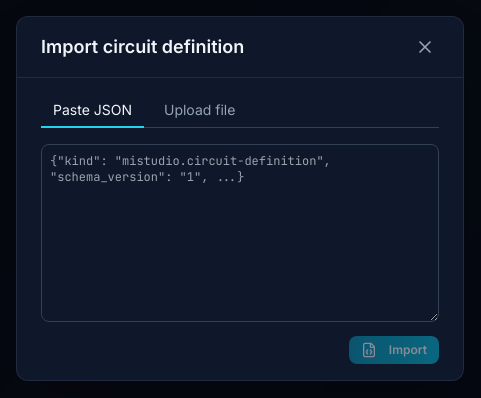
CircuitImportDialog › switches to the file tab
Click the button with test id "tab-file" at (200, 110), box top-left (152, 94), bottom-right (247, 128)
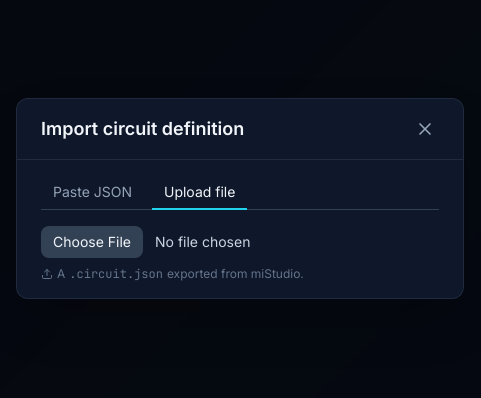
Expected: the file field with test id "file-input" is shown, top-left (41, 226), bottom-right (439, 258)
